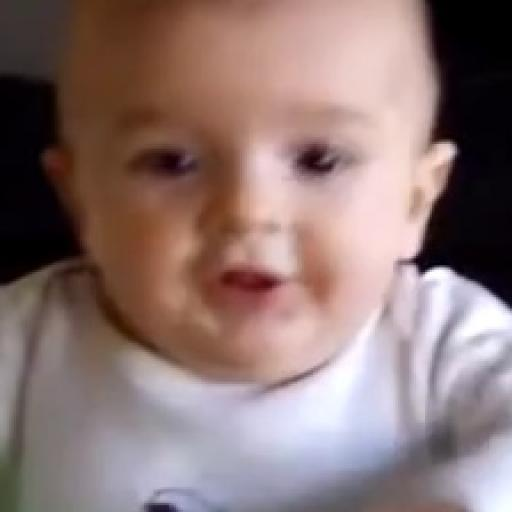Autism: (51, 5, 450, 403)
